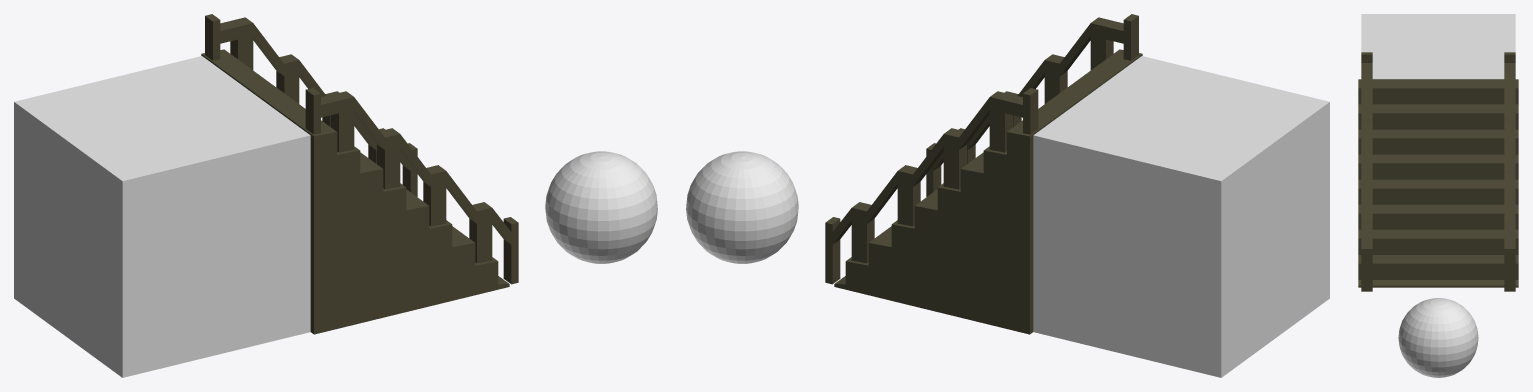
The model's file is stairsv4.gltf.
3 renders of one model, left to right at view 1: azimuth 30°, elevation 25°; view 2: azimuth 150°, elevation 25°; view 3: azimuth 270°, elevation 25°, orthographic. The views are drawn at different scales.
Parts seen in each view (by area): view 1: ground, stairs, Sphere; view 2: ground, stairs, Sphere; view 3: stairs, ground, Sphere.
Boxes of the visible parts, box(x1,y1,x2,y2) form: ground: box(14, 56, 310, 377); stairs: box(201, 14, 518, 334); Sphere: box(545, 151, 657, 263); ground: box(1033, 56, 1329, 377); stairs: box(825, 14, 1142, 334); Sphere: box(686, 151, 798, 263); stairs: box(1358, 52, 1518, 291); ground: box(1361, 14, 1515, 79); Sphere: box(1398, 298, 1478, 377).
Size of the model in its own units: 11.9 by 5.6 by 4.
